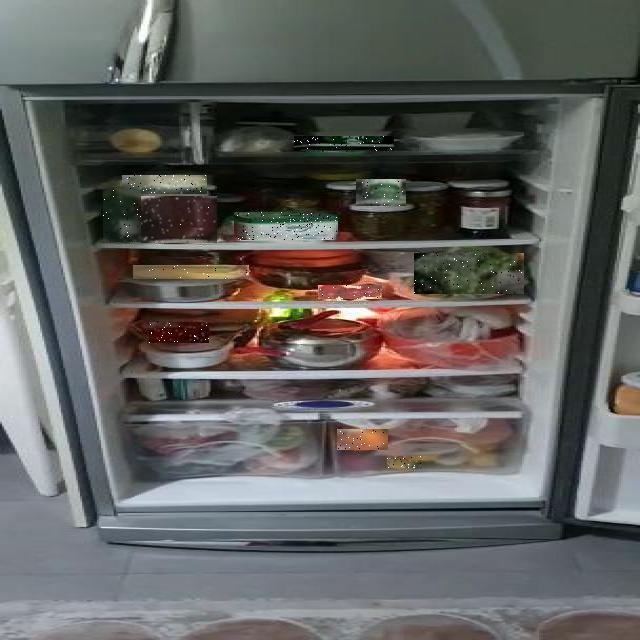Banana: (133, 265, 249, 279)
Cheese: (234, 212, 338, 240), (122, 175, 207, 194)
Cream: (295, 136, 395, 151)
Lemon: (388, 456, 422, 468)
Lettuce: (415, 253, 525, 294)
Orange: (337, 429, 388, 450)
Tomato Paste: (149, 322, 209, 343), (318, 285, 382, 299)
Tomatoes: (141, 196, 217, 243)
Water: (103, 190, 141, 242)
Yoghurt: (356, 179, 406, 206)
